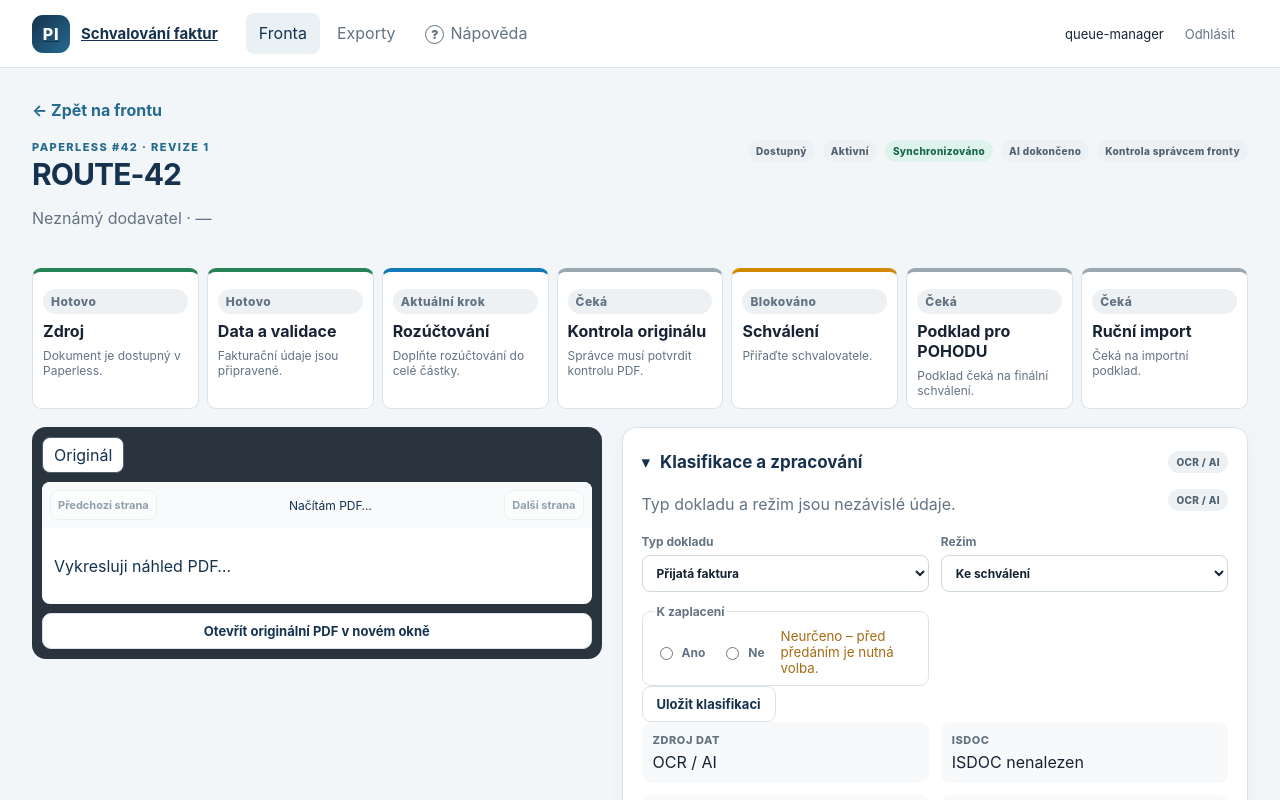
client-side routing › opens a deep-linked detail and Fronta navigates to the real queue URL
Expected: the heading "ROUTE-42" is shown, 32,156 -> 181,192
Step 1. Click the link "Fronta" → (283, 34), box 246,13 -> 320,54
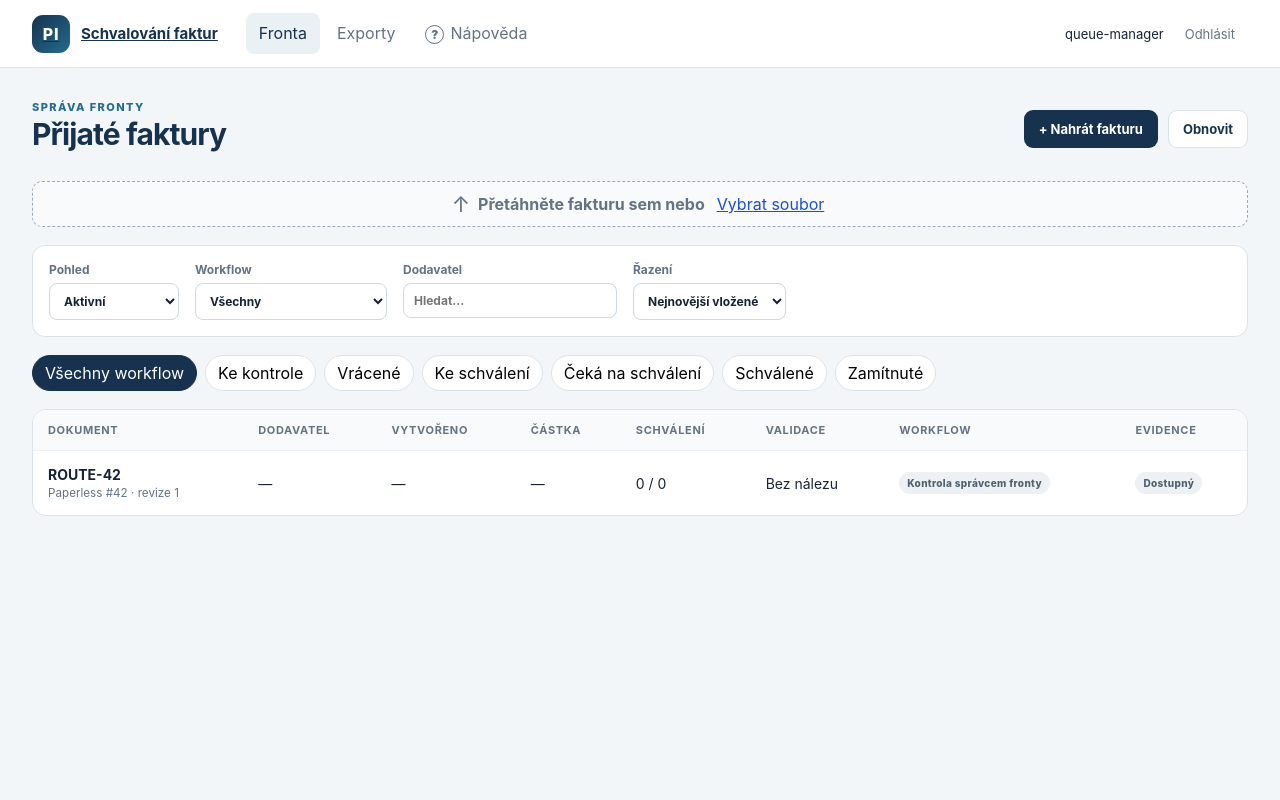
Result: the heading "Přijaté faktury" is shown at 32,116 -> 226,152
